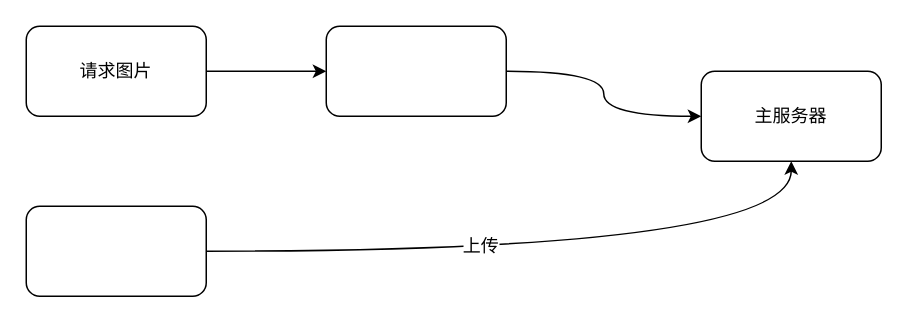
This 908x323 diagram has some shape labels left out. Here are the shapes that lost their labels. From the top down, the box of each, then its label:
(325, 25, 506, 116): 负载服务器
(25, 205, 206, 296): 上传图片
